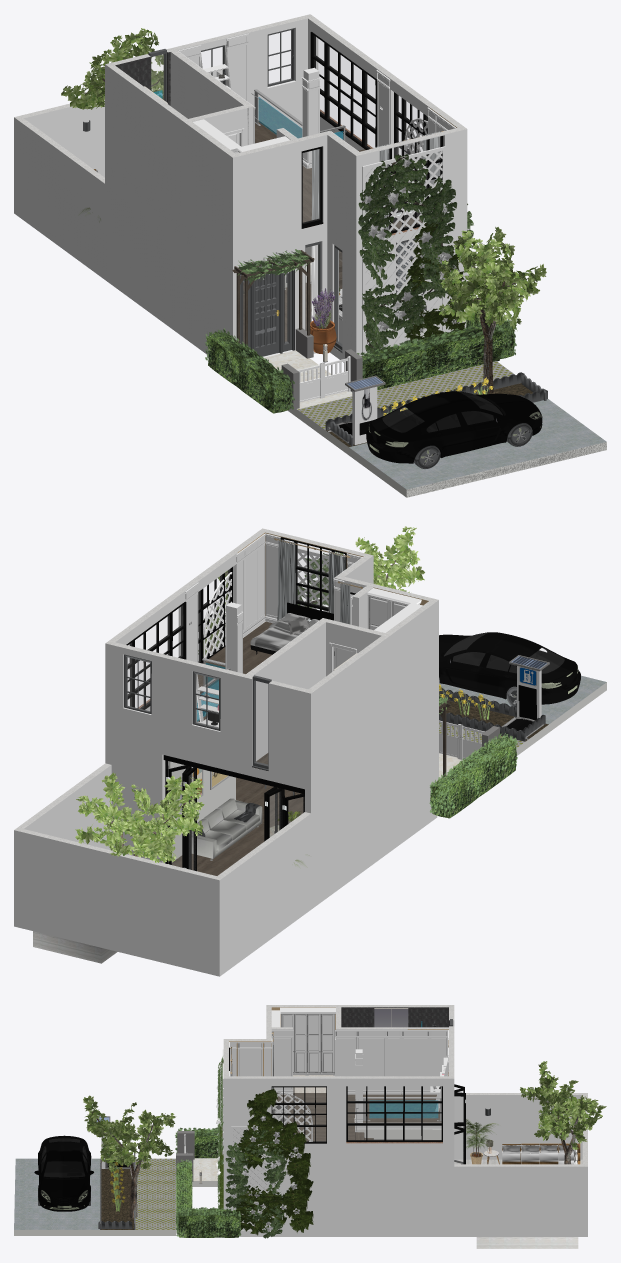
The model's file is new_york_townhouse__1.glb.
The picture shows the model from 3 angles, top to bottom: view 1: azimuth 30°, elevation 25°; view 2: azimuth 150°, elevation 25°; view 3: azimuth 270°, elevation 25°; orthographic projection. The views are drawn at different scales.
Visible parts, largest first — view 1: Object_31, Object_46, Object_105, Object_44, Object_58, Object_57, Object_38, Object_59, Object_29, Object_11, Object_43, Object_37 (+13 smaller); view 2: Object_31, Object_46, Object_57, Object_44, Object_58, Object_43, Object_59, Object_36, Object_38, Object_13, Object_100, Object_28 (+7 smaller); view 3: Object_31, Object_57, Object_58, Object_44, Object_46, Object_102, Object_43, Object_29, Object_36, Object_105, Object_38, Object_87 (+17 smaller).
Part boxes in pixels (x1,y1,x2,y2): Object_31: (14,18,467,362); Object_46: (301,32,542,463); Object_105: (358,154,473,353); Object_44: (61,28,546,330); Object_58: (151,30,440,411); Object_57: (96,33,456,444); Object_38: (206,298,514,413); Object_59: (83,28,547,466); Object_29: (349,399,606,489); Object_11: (362,118,471,355); Object_43: (14,14,466,183); Object_37: (205,299,516,412); Object_31: (14,539,438,976); Object_46: (126,537,580,871); Object_57: (185,533,541,759); Object_44: (75,526,424,862); Object_58: (127,539,546,869); Object_43: (14,528,438,880); Object_59: (124,654,545,836); Object_36: (168,621,303,875); Object_38: (430,736,516,818); Object_13: (191,798,262,858); Object_100: (277,539,350,624); Object_28: (168,682,606,862); Object_31: (223,1020,587,1236); Object_57: (101,1007,577,1175); Object_58: (272,1086,464,1163); Object_44: (83,1061,606,1172); Object_46: (34,1047,465,1211); Object_102: (218,1088,313,1235); Object_43: (223,1005,587,1166); Object_29: (14,1158,100,1229); Object_36: (275,1093,442,1142); Object_105: (217,1057,286,1238); Object_38: (176,1129,240,1237); Object_87: (135,1158,176,1229).
Size of the model in its own units: 7.79 by 7.49 by 22.44.
97 materials, 79 textured.
